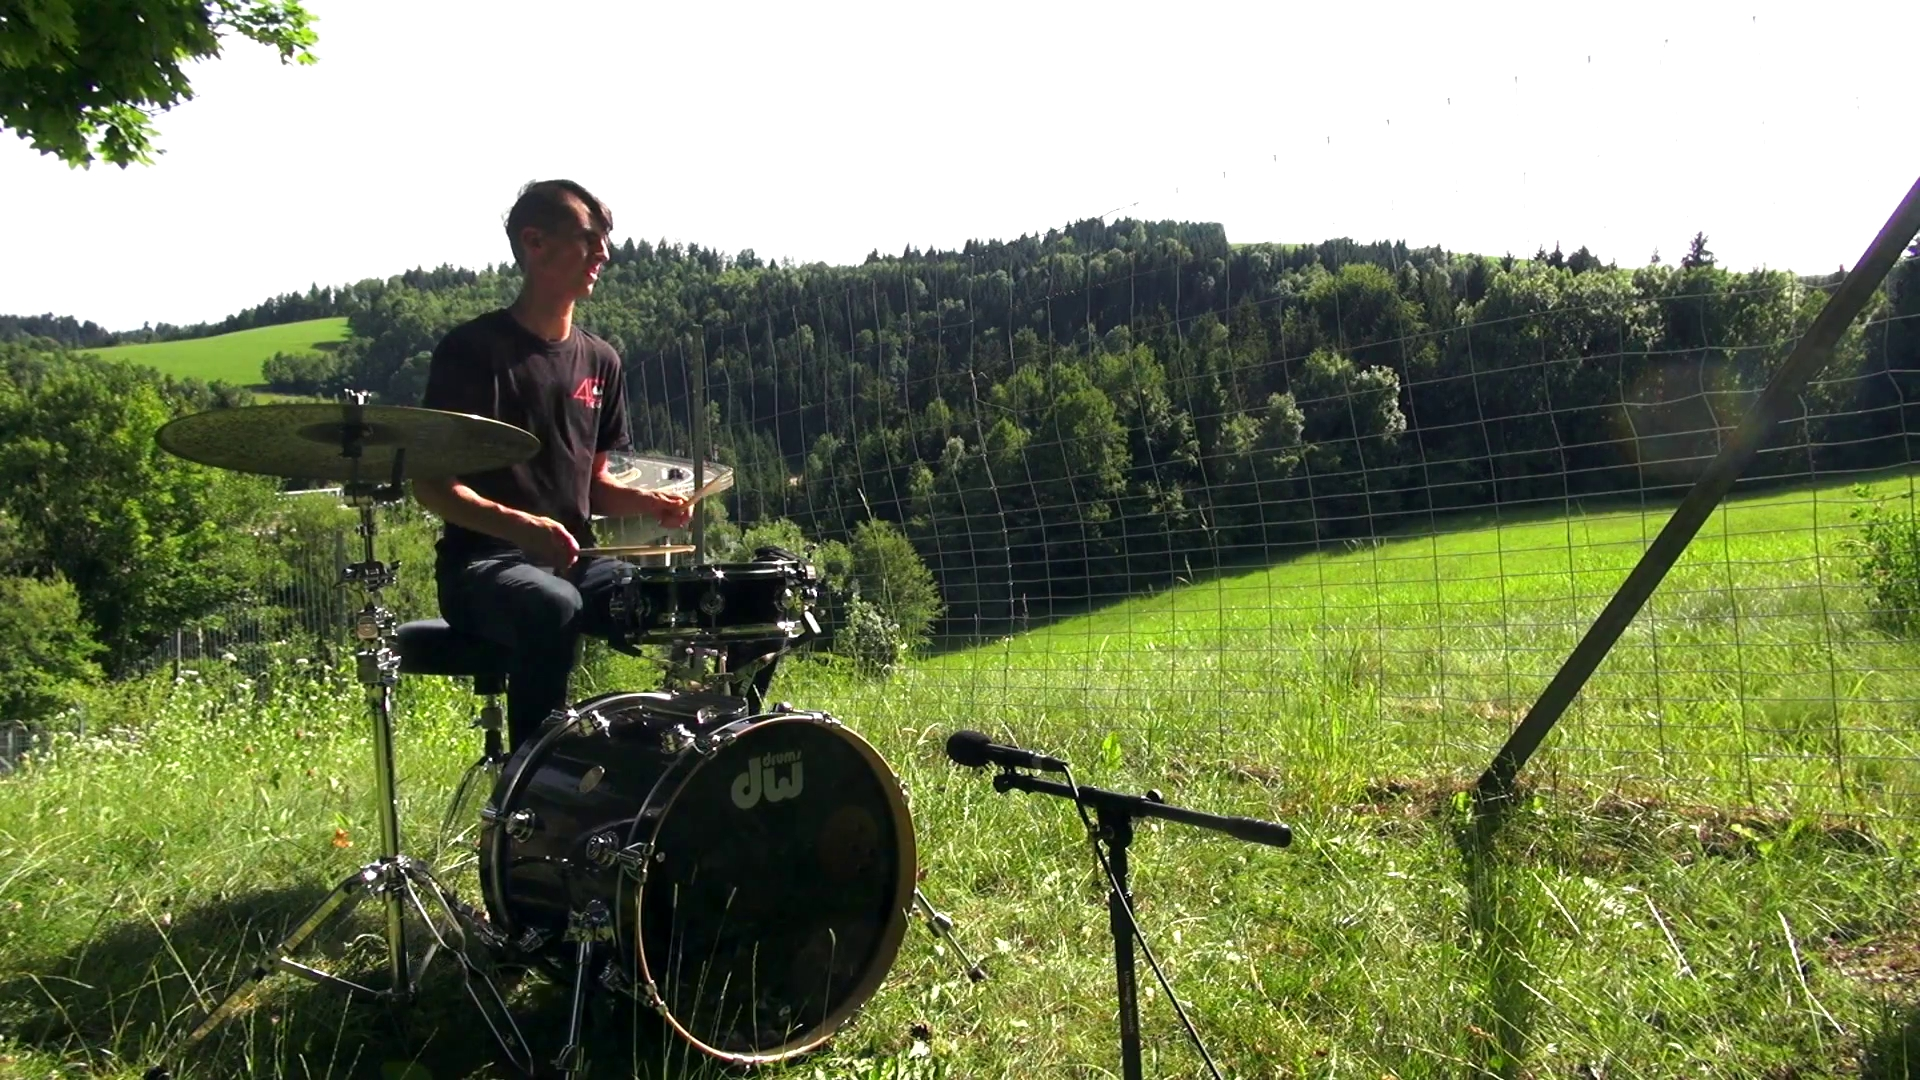person: (413, 179, 692, 755)
